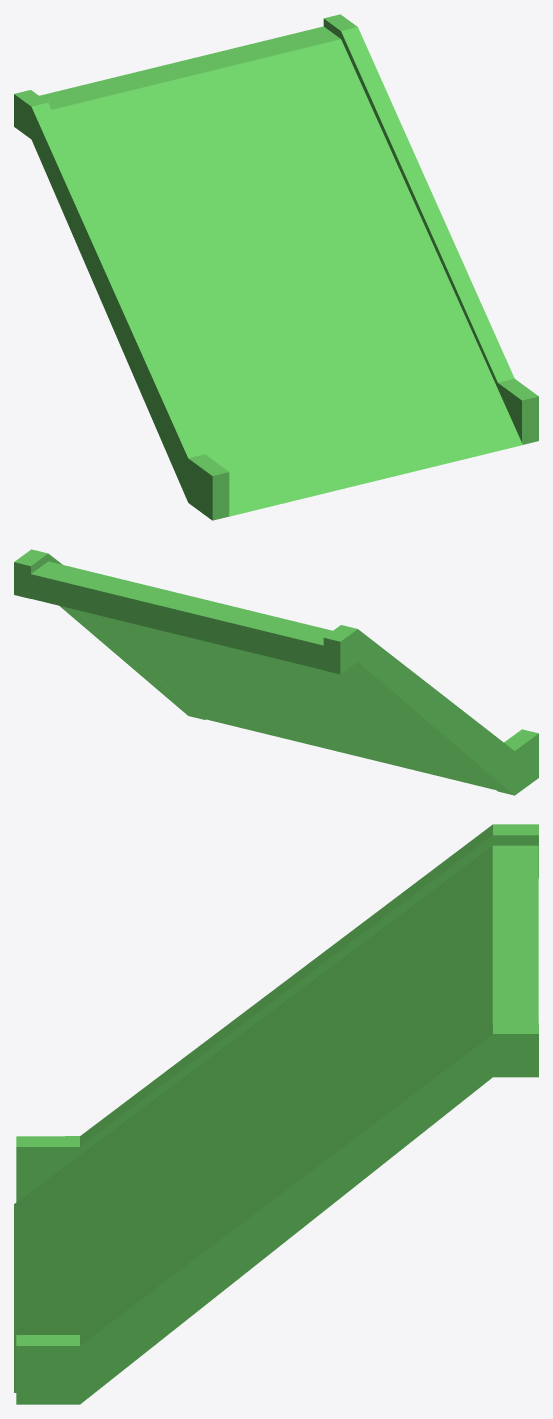
Rendered from Gen_Staircase_Int_COL.fbx.
3 views of the same model, one above another, from view 1: azimuth 30°, elevation 25°; view 2: azimuth 150°, elevation 25°; view 3: azimuth 270°, elevation 25° (orthographic). The views are drawn at different scales.
Parts seen in each view (by area): view 1: Gen_Staircase_Int_COL; view 2: Gen_Staircase_Int_COL; view 3: Gen_Staircase_Int_COL.
Part boxes in pixels (bbox=[...]): Gen_Staircase_Int_COL: bbox=[14, 14, 538, 520]; Gen_Staircase_Int_COL: bbox=[14, 549, 538, 795]; Gen_Staircase_Int_COL: bbox=[14, 824, 538, 1404].
Size of the model in its own units: 292 by 241 by 309.
